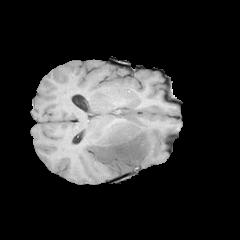glioma: (74, 106, 169, 175)
